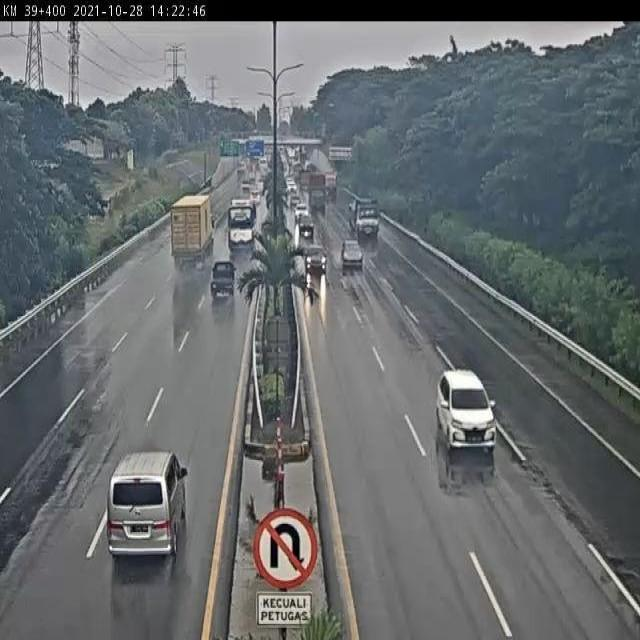Bus: (226, 197, 256, 257)
Car: (106, 456, 189, 624), (429, 349, 508, 473), (200, 264, 238, 308), (332, 229, 365, 272), (300, 240, 330, 284)
Truck: (162, 190, 218, 276)
